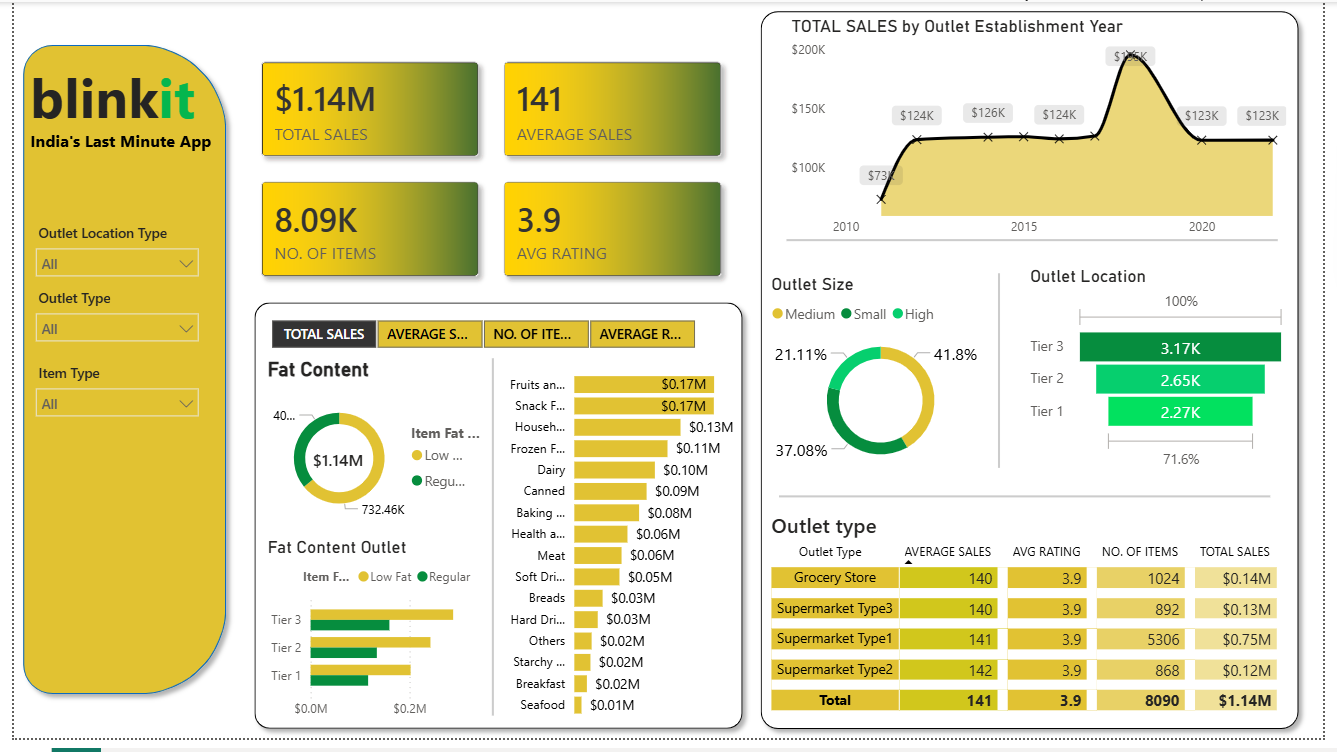

The dashboard page shown, as its layout file describes it:
{"tool":"powerbi","page":{"name":"Page 1","canvas":[1280,720],"ordinal":0},"visuals":[{"type":"shape","box":[0,33,216.4,653],"z":0},{"type":"textbox","box":[11,50.8,214.1,94.7],"z":1000},{"type":"textbox","box":[11,119.4,214.1,87.8],"z":2000},{"type":"cardVisual","fields":{"Data":["BlinkIT Grocery Data (2).TOTAL SALES","BlinkIT Grocery Data (2).AVERAGE SALES","BlinkIT Grocery Data (2).NO. OF ITEMS","BlinkIT Grocery Data (2).AVERAGE RATING"]},"box":[212.8,29.3,509.9,269],"z":3000},{"type":"shape","box":[226.4,285.4,495.4,435],"z":4000},{"type":"donutChart","title":"Fat Content","fields":{"Y":["BlinkIT Grocery Data (2).TOTAL SALES"],"Category":["BlinkIT Grocery Data (2).Item Fat Content"]},"box":[242.9,348.5,225,174.3],"z":5000},{"type":"slicer","fields":{"Values":["Parameter.Parameter"]},"box":[226.4,304.6,463.8,39.8],"z":6000},{"type":"cardVisual","fields":{"Data":["BlinkIT Grocery Data (2).TOTAL SALES"]},"box":[264.8,414.4,113.9,63.1],"z":7000},{"type":"clusteredBarChart","title":"Fat Content Outlet","fields":{"Y":["BlinkIT Grocery Data (2).TOTAL SALES"],"Category":["BlinkIT Grocery Data (2).Outlet Location Type"],"Series":["BlinkIT Grocery Data (2).Item Fat Content"]},"box":[242.9,522.8,247,186.6],"z":8000},{"type":"shape","box":[455.6,348.5,24.7,349.9],"z":9000},{"type":"barChart","fields":{"Y":["BlinkIT Grocery Data (2).TOTAL SALES"],"Category":["BlinkIT Grocery Data (2).Item Type"]},"box":[467.9,344.4,267.6,365],"z":10000},{"type":"shape","box":[721.5,0,544.2,720.2],"z":11000},{"type":"lineChart","fields":{"Category":["BlinkIT Grocery Data (2).Outlet Establishment Year"],"Y":["BlinkIT Grocery Data (2).TOTAL SALES"]},"box":[756.1,13.7,494,225],"z":12000},{"type":"donutChart","title":" Outlet Size","fields":{"Category":["BlinkIT Grocery Data (2).Outlet Size"],"Y":["CountNonNull(BlinkIT Grocery Data (2).Outlet Size)"]},"box":[736.1,265.4,223.8,200.5],"z":13000},{"type":"funnel","title":" Outlet Location","fields":{"Category":["BlinkIT Grocery Data (2).Outlet Location Type"],"Y":["CountNonNull(BlinkIT Grocery Data (2).Outlet Location Type)"]},"box":[989.3,258,260.5,203],"z":14000},{"type":"shape","box":[947.7,265.4,31.8,190.8],"z":15000},{"type":"shape","box":[755.7,193.2,480.6,79.5],"z":16000},{"type":"shape","box":[748.4,443.9,480.6,79.5],"z":17000},{"type":"pivotTable","title":"Outlet type","fields":{"Rows":["BlinkIT Grocery Data (2).Outlet Type"],"Values":["BlinkIT Grocery Data (2).AVERAGE SALES","BlinkIT Grocery Data (2).AVG RATING","BlinkIT Grocery Data (2).NO. OF ITEMS","BlinkIT Grocery Data (2).TOTAL SALES"]},"box":[736.1,497.7,544.2,222.6],"z":18000},{"type":"slicer","fields":{"Values":["BlinkIT Grocery Data (2).Outlet Location Type"]},"box":[11,211.6,179.8,73.4],"z":19000},{"type":"slicer","fields":{"Values":["BlinkIT Grocery Data (2).Outlet Type"]},"box":[11,275.1,179.8,73.4],"z":20000},{"type":"slicer","fields":{"Values":["BlinkIT Grocery Data (2).Item Type"]},"box":[11,348.5,179.8,73.4],"z":21000}]}

Visuals, with their boxes in screenshot pixels (x1, y1, x2, y2), scaled from the page's 1280x720 canvas onto the 1337x752 screenshot:
shape: left=0, top=34, right=226, bottom=716
textbox: left=11, top=53, right=235, bottom=152
textbox: left=11, top=125, right=235, bottom=216
cardVisual - BlinkIT Grocery Data (2).TOTAL SALES x BlinkIT Grocery Data (2).AVERAGE SALES: left=222, top=31, right=755, bottom=312
shape: left=236, top=298, right=754, bottom=751
"Fat Content" donutChart: left=254, top=364, right=489, bottom=546
slicer - Parameter.Parameter: left=236, top=318, right=721, bottom=360
cardVisual - BlinkIT Grocery Data (2).TOTAL SALES: left=277, top=433, right=396, bottom=499
"Fat Content Outlet" clusteredBarChart: left=254, top=546, right=512, bottom=741
shape: left=476, top=364, right=502, bottom=729
barChart - BlinkIT Grocery Data (2).TOTAL SALES x BlinkIT Grocery Data (2).Item Type: left=489, top=360, right=768, bottom=741
shape: left=754, top=0, right=1322, bottom=751
lineChart - BlinkIT Grocery Data (2).Outlet Establishment Year x BlinkIT Grocery Data (2).TOTAL SALES: left=790, top=14, right=1306, bottom=249
" Outlet Size" donutChart: left=769, top=277, right=1003, bottom=487
" Outlet Location" funnel: left=1033, top=269, right=1305, bottom=481
shape: left=990, top=277, right=1023, bottom=476
shape: left=789, top=202, right=1291, bottom=285
shape: left=782, top=464, right=1284, bottom=547
"Outlet type" pivotTable: left=769, top=520, right=1336, bottom=751
slicer - BlinkIT Grocery Data (2).Outlet Location Type: left=11, top=221, right=199, bottom=298
slicer - BlinkIT Grocery Data (2).Outlet Type: left=11, top=287, right=199, bottom=364
slicer - BlinkIT Grocery Data (2).Item Type: left=11, top=364, right=199, bottom=441
